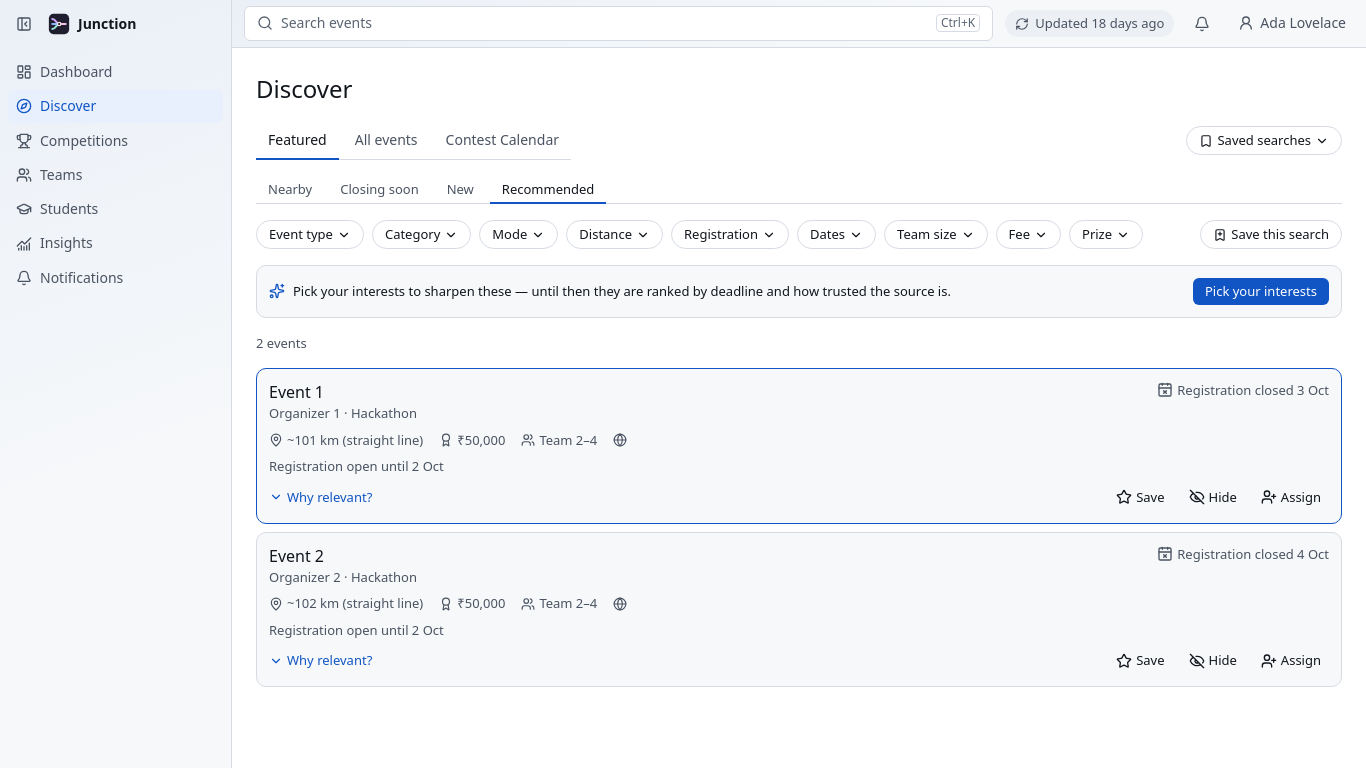
Test: the assign flow (R98) › a conflict blocks, naming the other competition
expect the navigation bar named "Main" is shown: met, box left=0, top=0, right=231, bottom=302
expect the heading "Event 1" is shown: met, box left=269, top=381, right=324, bottom=404
Type keys "a"
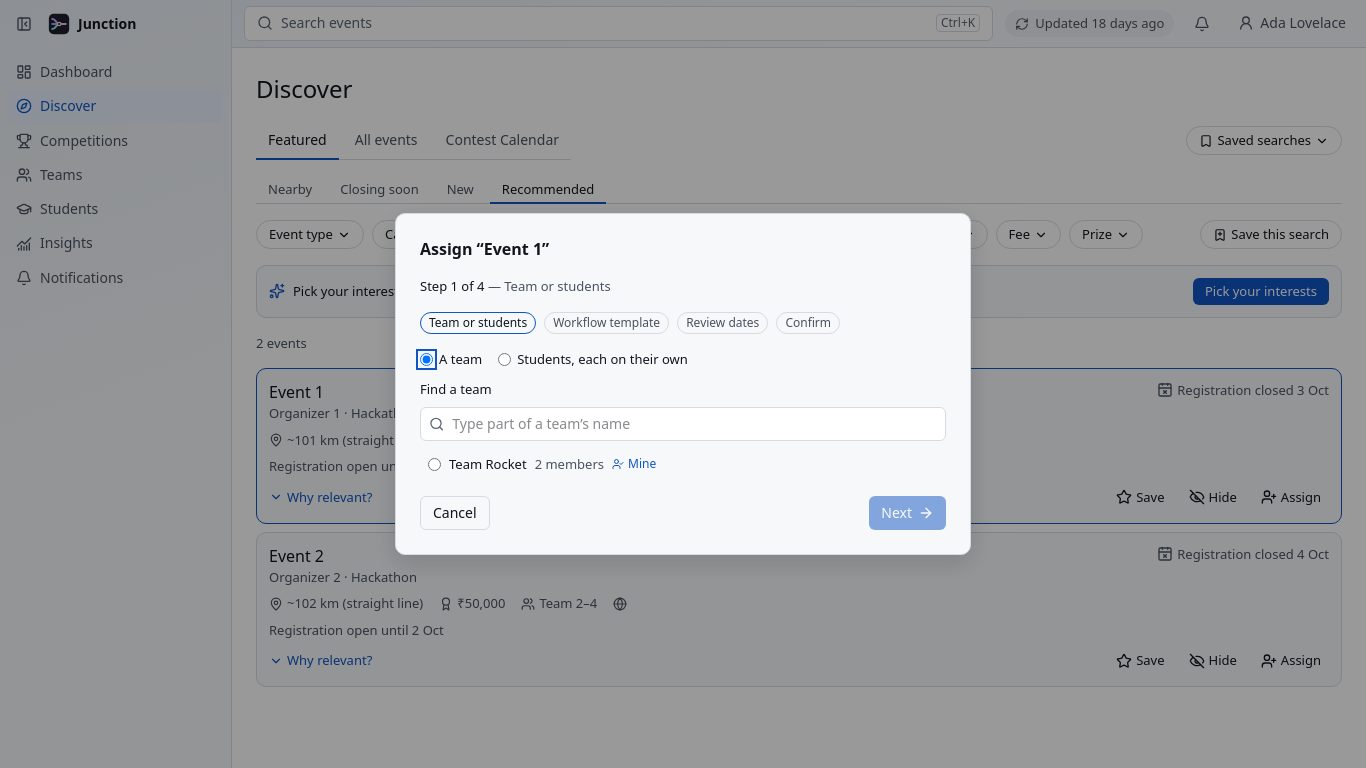
Click the radio button labelled "Team Rocket 2 members Mine" at (434, 464), box left=428, top=458, right=441, bottom=471
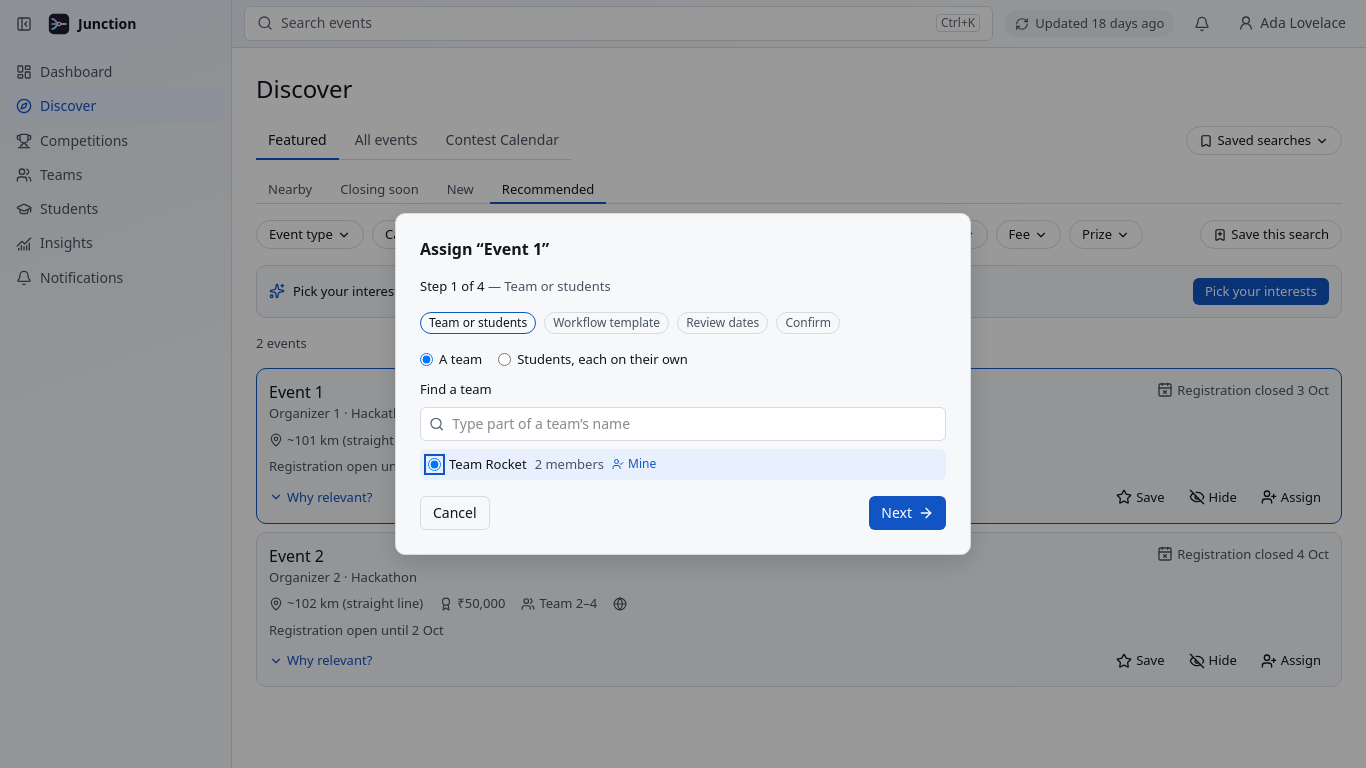
Click the button "Next" at (908, 513), box left=869, top=496, right=946, bottom=530
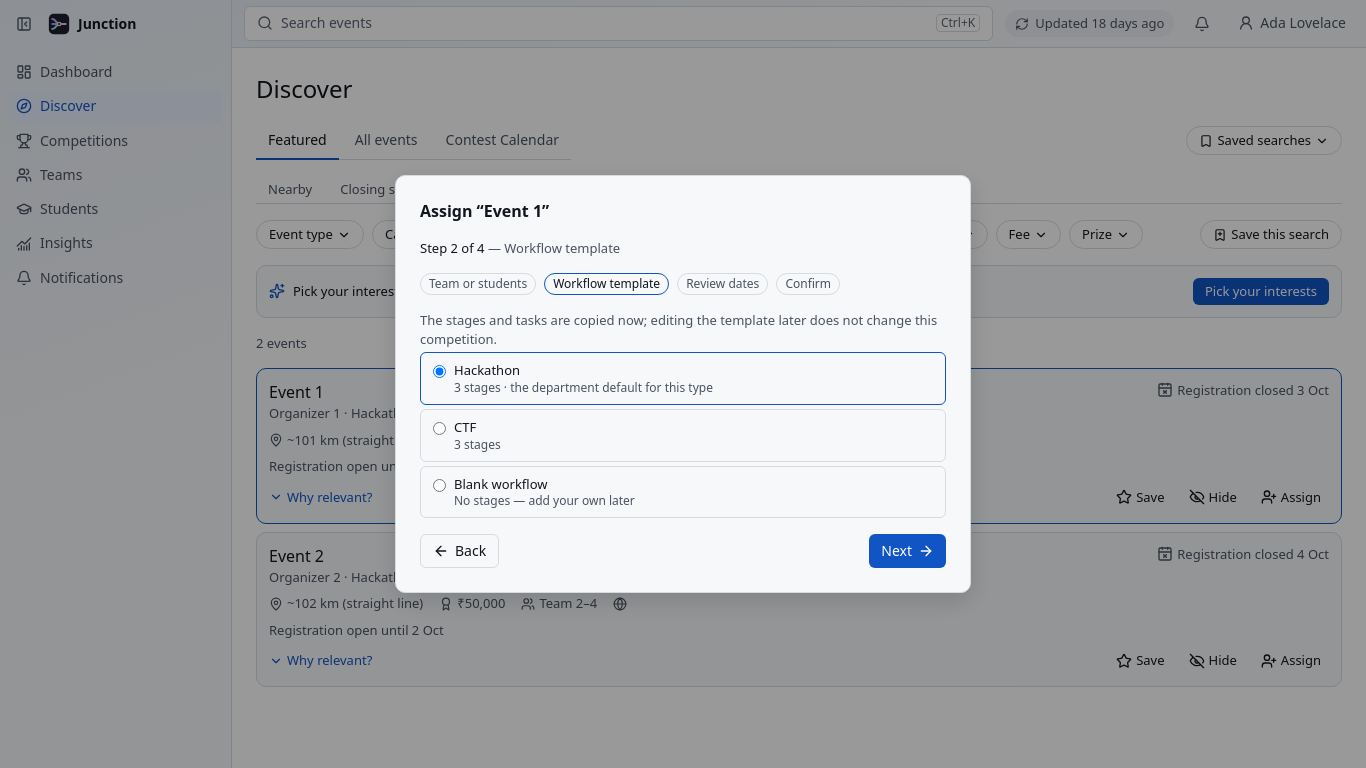
expect the radio button labelled "Hackathon 3 stages · the department default for this type" is shown: met, box left=433, top=365, right=446, bottom=378
Click the button "Next" at (908, 551), box left=869, top=534, right=946, bottom=568
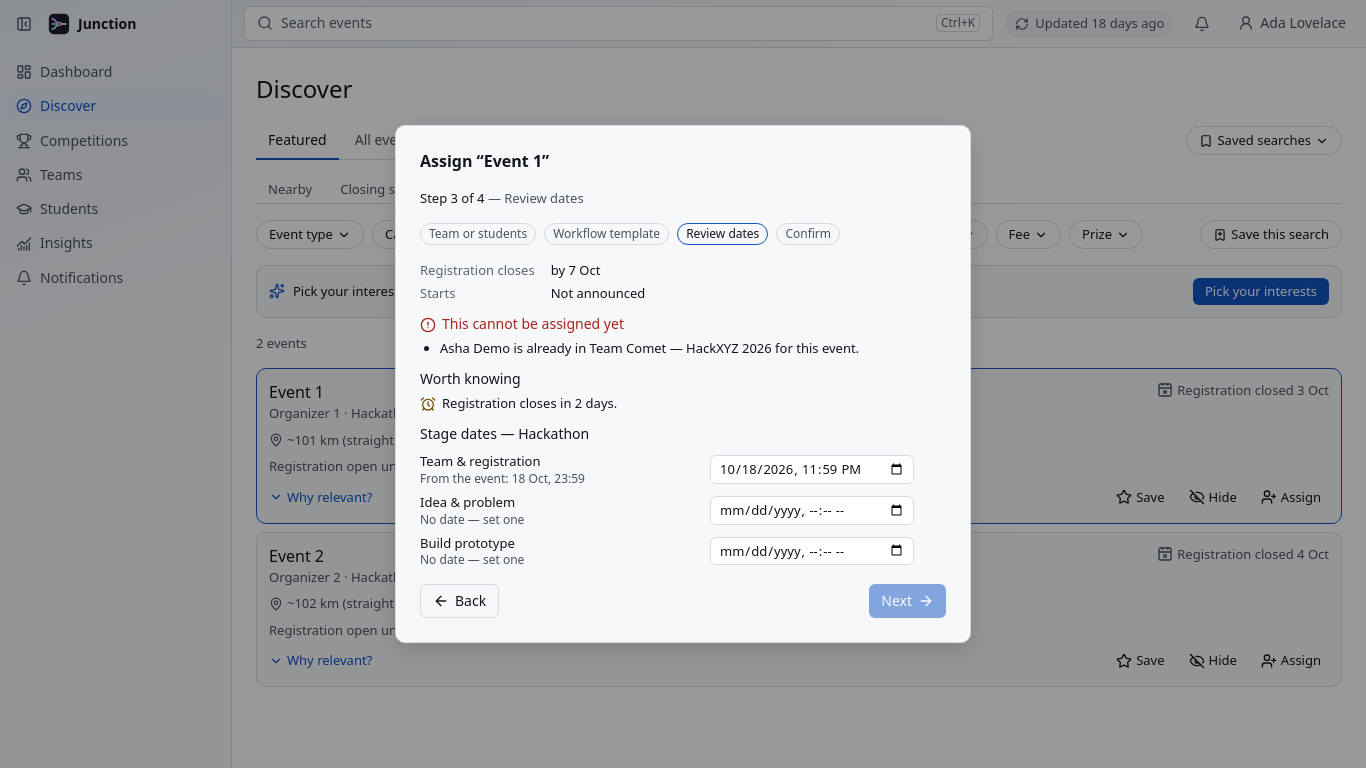
expect the list item "Asha Demo is already in Team Comet — HackXYZ 2026 for this event." is shown: met, box left=440, top=339, right=859, bottom=357
expect the button "Next" is disabled: met, box left=869, top=584, right=946, bottom=618
